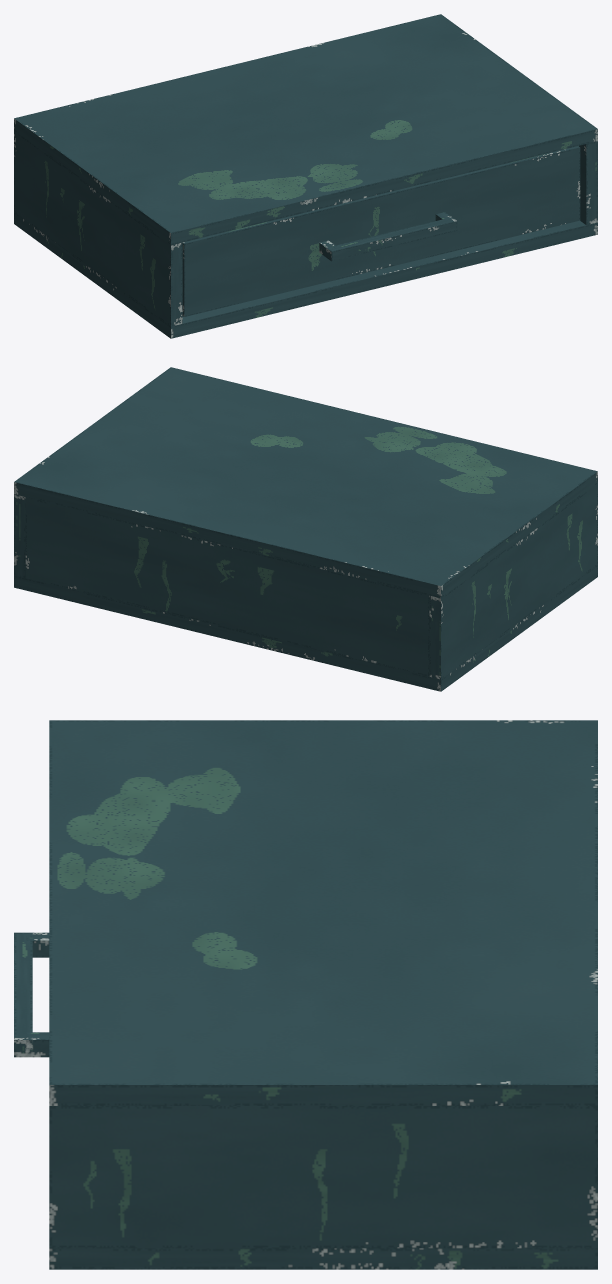
File: SM_Hub_Workbench_Drawer.fbx
3 renders of one model, top to bottom at view 1: azimuth 30°, elevation 25°; view 2: azimuth 150°, elevation 25°; view 3: azimuth 270°, elevation 25°, orthographic. The views are drawn at different scales.
Parts seen in each view (by area): view 1: SM_Hub_Workbench_Drawer_Casing, SM_Hub_Workbench_Drawer_Tray; view 2: SM_Hub_Workbench_Drawer_Casing; view 3: SM_Hub_Workbench_Drawer_Casing, SM_Hub_Workbench_Drawer_Tray.
Boxes of the visible parts, bbox=[...] form: SM_Hub_Workbench_Drawer_Casing: bbox=[14, 14, 597, 338]; SM_Hub_Workbench_Drawer_Tray: bbox=[182, 146, 580, 316]; SM_Hub_Workbench_Drawer_Casing: bbox=[14, 367, 597, 691]; SM_Hub_Workbench_Drawer_Casing: bbox=[49, 720, 597, 1269]; SM_Hub_Workbench_Drawer_Tray: bbox=[14, 932, 49, 1057].
Bounding box in the file's own units: 110 × 26 × 74.5.
Materials: 2 (2 with a texture image).
